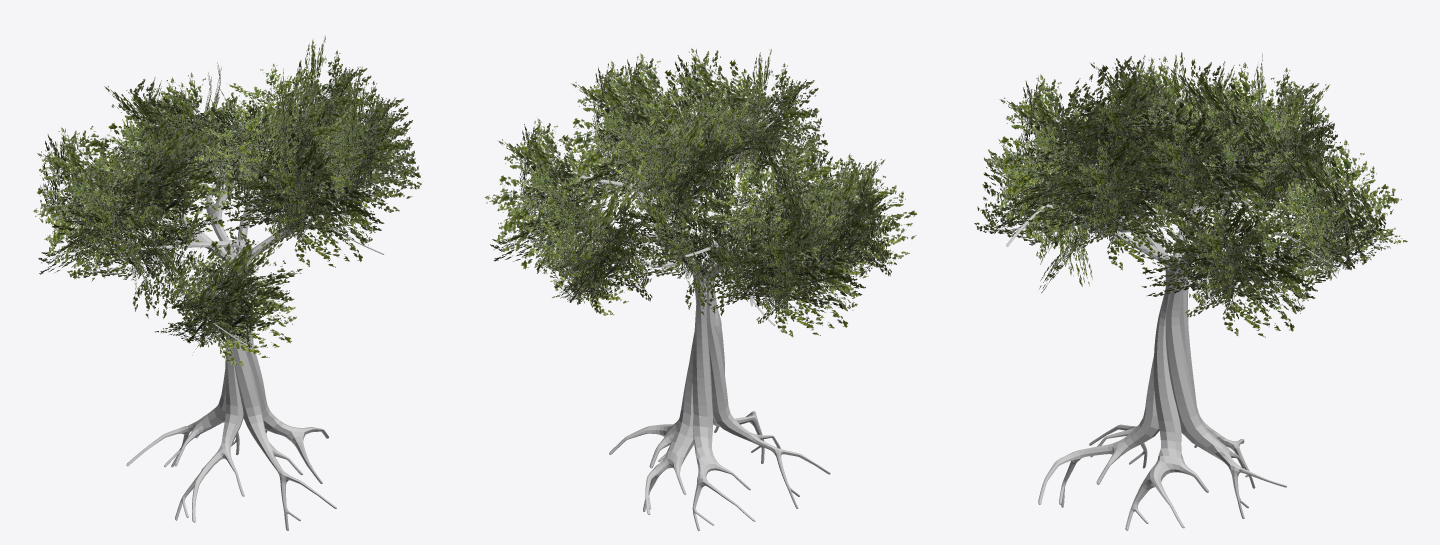
File: Tree_3.fbx
3 views of the same model, side by side, from view 1: azimuth 30°, elevation 25°; view 2: azimuth 150°, elevation 25°; view 3: azimuth 270°, elevation 25° (orthographic). The views are drawn at different scales.
Parts seen in each view (by area): view 1: Tree_3_Leaves, Tree_3_Trunk; view 2: Tree_3_Leaves, Tree_3_Trunk; view 3: Tree_3_Leaves, Tree_3_Trunk.
Part boxes in pixels (bbox=[...]): Tree_3_Leaves: bbox=[33, 35, 421, 366]; Tree_3_Trunk: bbox=[53, 137, 384, 530]; Tree_3_Leaves: bbox=[484, 48, 917, 337]; Tree_3_Trunk: bbox=[540, 118, 830, 530]; Tree_3_Leaves: bbox=[974, 52, 1407, 337]; Tree_3_Trunk: bbox=[1002, 138, 1340, 530].
Size of the model in its own units: 527 by 595 by 508.
